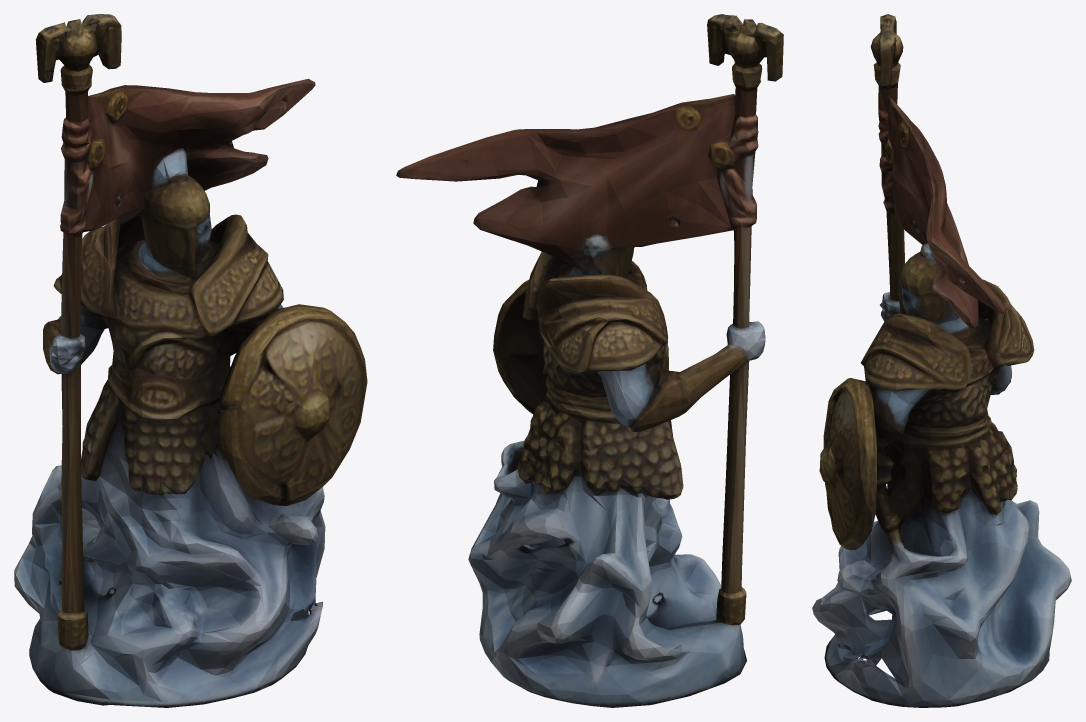
File: ghostOfTheNinthLegion.glb
3 renders of one model, left to right at view 1: azimuth 30°, elevation 25°; view 2: azimuth 150°, elevation 25°; view 3: azimuth 270°, elevation 25°, orthographic. The views are drawn at different scales.
Parts seen in each view (by area): view 1: world; view 2: world; view 3: world.
Part boxes in pixels (x1=…): world: x1=14, y1=14, x2=367, y2=707; world: x1=396, y1=14, x2=783, y2=707; world: x1=812, y1=14, x2=1071, y2=707.
Bounding box in the file's own units: 0.5167 × 0.9906 × 0.397.
1 material, 1 textured.
